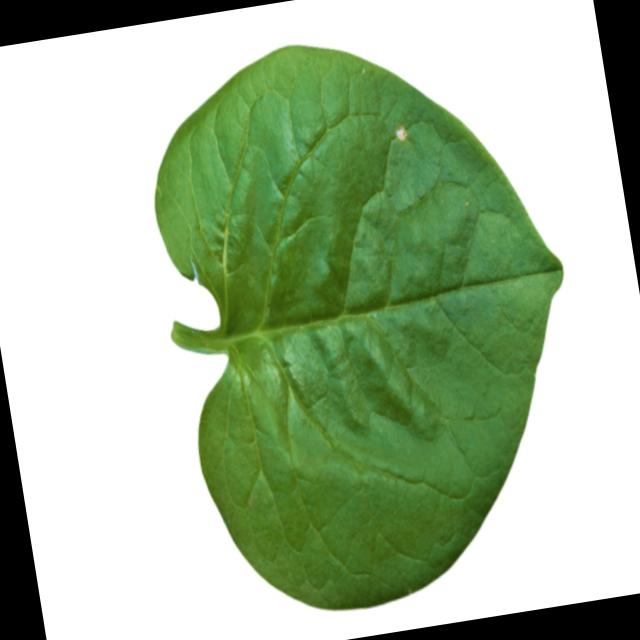Medicinal-Basale: (128, 6, 610, 634)
